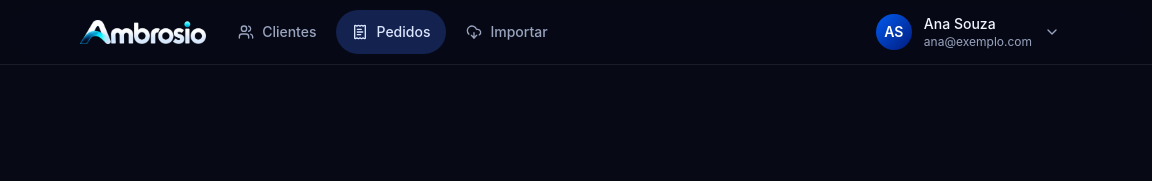
AppHeader › "Conta" abre o menu com Configurações e Sair; Esc fecha
Click the button with aria-label "Conta". click: (972,32)
box: [872,10,1072,54]
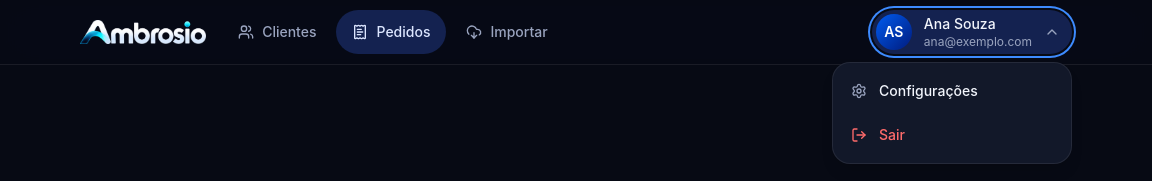
Expected: the button with aria-label "Conta" is expanded, [872,10,1072,54]
Expected: the button with aria-label "Sair da sessão atual" is shown, [839,113,1065,157]
Press Escape
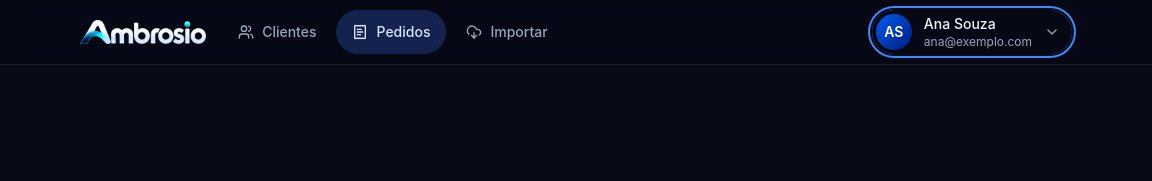
Expected: the link "Configurações" is gone
